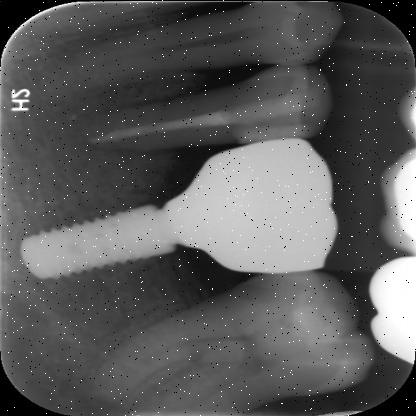ITI: (17, 200, 172, 298)
